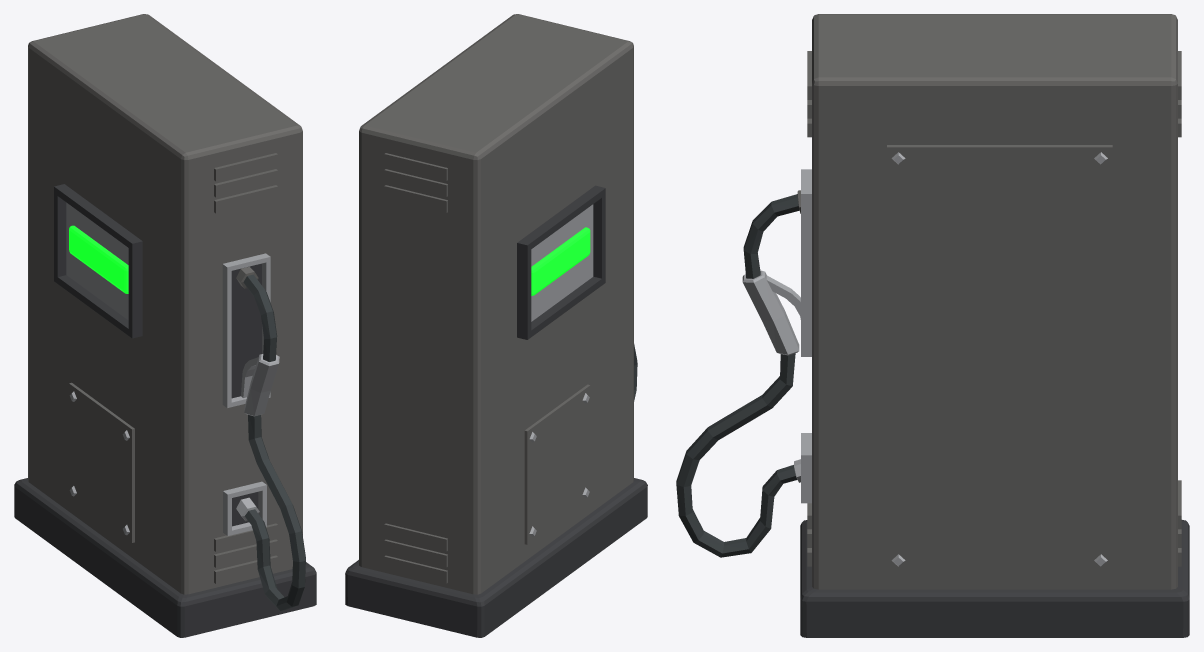
The model's file is SM_Gas_Station_Pump.fbx.
The picture shows the model from 3 angles, left to right: view 1: azimuth 30°, elevation 25°; view 2: azimuth 150°, elevation 25°; view 3: azimuth 270°, elevation 25°; orthographic projection. The views are drawn at different scales.
Parts seen in each view (by area): view 1: SM_Gas_Station_Pump_LOD0; view 2: SM_Gas_Station_Pump_LOD0; view 3: SM_Gas_Station_Pump_LOD0.
Boxes of the visible parts, x1,y1,x2,y2 form: SM_Gas_Station_Pump_LOD0: (14,14,316,637); SM_Gas_Station_Pump_LOD0: (345,14,647,637); SM_Gas_Station_Pump_LOD0: (676,14,1189,637).
Bounding box in the file's own units: 64.81 × 177 × 210.
1 material, 1 textured.
